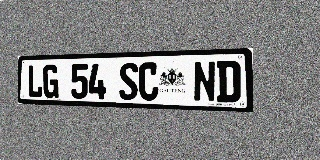4: (89, 63, 106, 99)
5: (71, 64, 88, 99)
C: (139, 62, 158, 101)
D: (217, 60, 240, 103)
G: (43, 64, 58, 98)
L: (28, 65, 43, 98)
N: (193, 61, 216, 102)
S: (119, 63, 138, 100)
